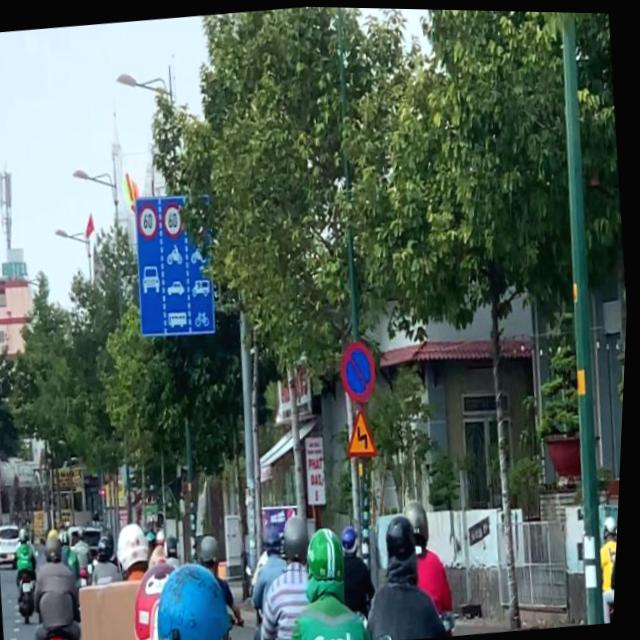Cam do xe: (340, 338, 383, 403)
Nhieu cho ngoat lien tiep ben trai: (346, 405, 383, 457)
Toc do toi da cho phep: (161, 200, 188, 239), (137, 202, 163, 240)
